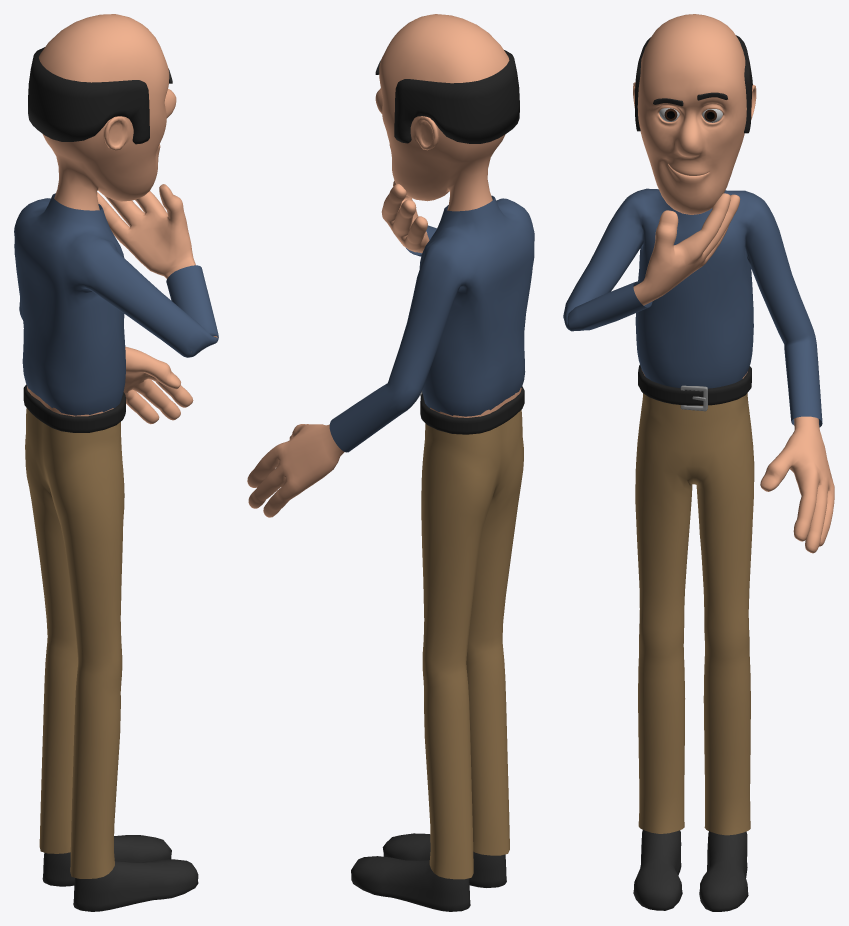
Rendered from EdBig.obj.
3 views of the same model, side by side, from view 1: azimuth 30°, elevation 25°; view 2: azimuth 150°, elevation 25°; view 3: azimuth 270°, elevation 25° (orthographic).
Visible parts, largest first — view 1: Head.001_Cube.005, Head_Cube.001, Head.002_Cube.007, Hair_Cube.004, Head.003_Cube.008; view 2: Head.001_Cube.005, Head_Cube.001, Head.002_Cube.007, Hair_Cube.004, Head.003_Cube.008; view 3: Head.001_Cube.005, Head_Cube.001, Head.002_Cube.007, Head.003_Cube.008, Hair_Cube.004.
Part boxes in pixels (x1,y1,x2,y2): Head.001_Cube.005: (25, 408, 124, 878); Head_Cube.001: (27, 14, 217, 911); Head.002_Cube.007: (14, 193, 218, 415); Hair_Cube.004: (28, 47, 149, 144); Head.003_Cube.008: (23, 384, 125, 432); Head.001_Cube.005: (421, 410, 523, 879); Head_Cube.001: (247, 14, 521, 911); Head.002_Cube.007: (329, 195, 534, 452); Hair_Cube.004: (394, 50, 519, 143); Head.003_Cube.008: (420, 386, 524, 434); Head.001_Cube.005: (635, 393, 754, 835); Head_Cube.001: (633, 14, 834, 911); Head.002_Cube.007: (563, 188, 822, 427); Head.003_Cube.008: (638, 365, 751, 411); Hair_Cube.004: (635, 35, 752, 133).
Bounding box in the file's own units: 0.089 × 0.3475 × 0.1.
